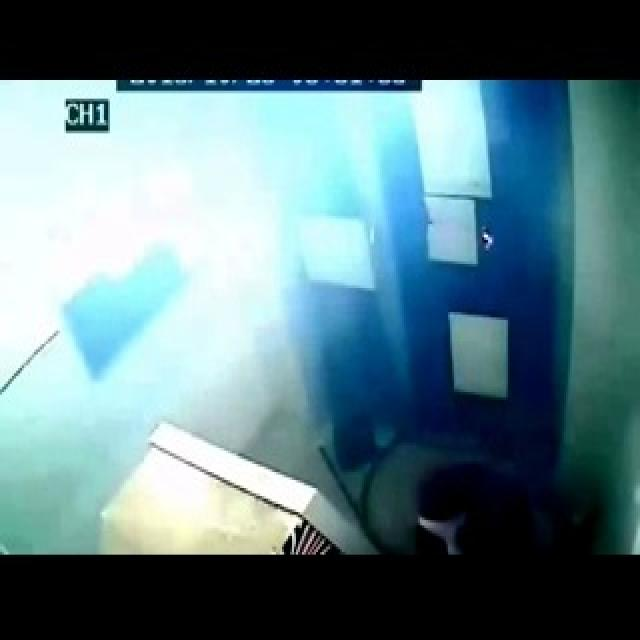thief: (395, 456, 549, 551)
